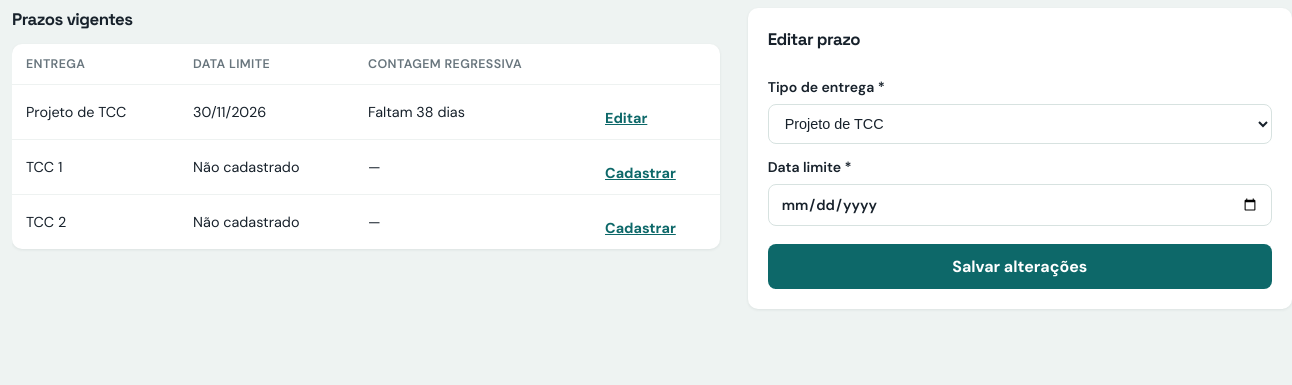
Scenario: GestaoCalendario › deve editar um prazo já cadastrado a partir da mesma tela
Expected: the text "30/11/2026" is shown, x1=179 y1=84 x2=354 y2=140
Click the button "Editar": [626, 118] box x1=605 y1=109 x2=647 y2=127
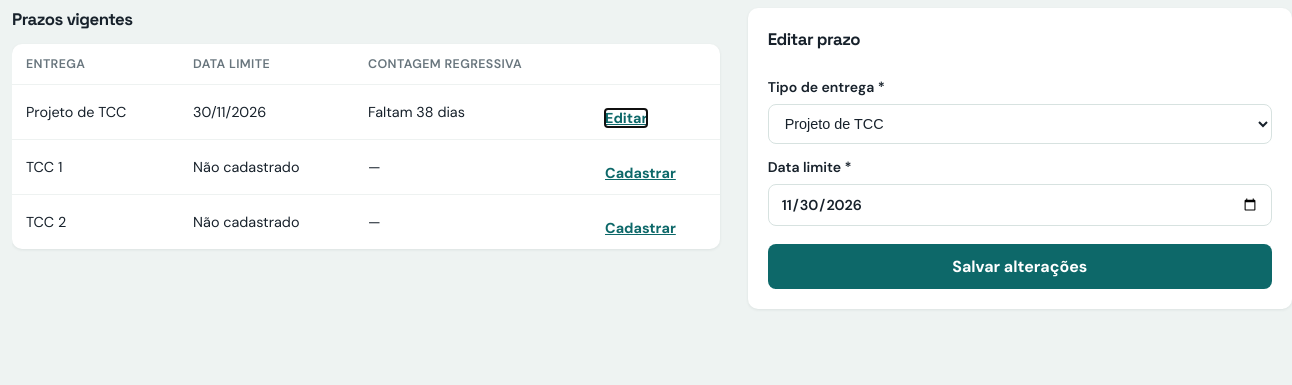
Expected: the button "Salvar alterações" is shown, x1=768 y1=244 x2=1272 y2=289
Now the date field labelled "Data limite *" holds "2026-11-30"
In the date field labelled "Data limite *": [1020, 205] box x1=768 y1=184 x2=1272 y2=226, type "2026-12-10"
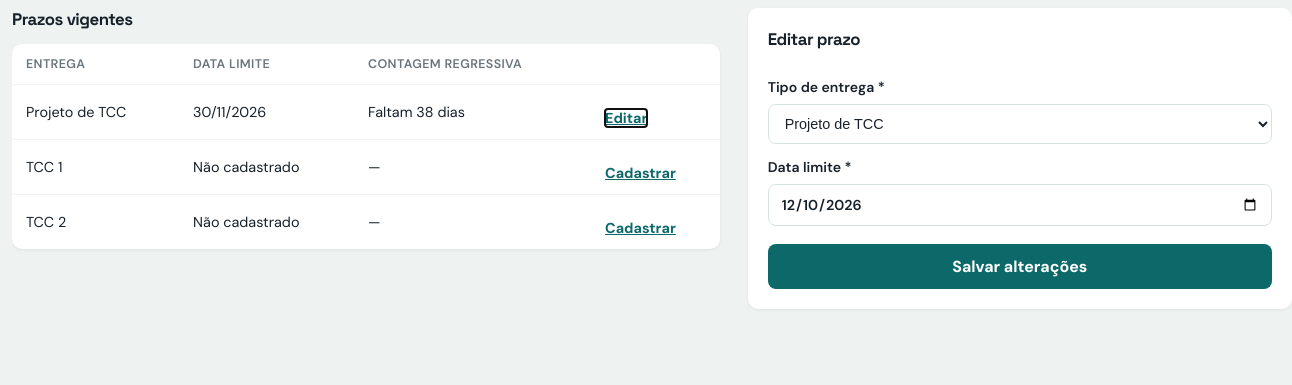
Click the button "Salvar alterações": [1020, 266] box x1=768 y1=244 x2=1272 y2=289
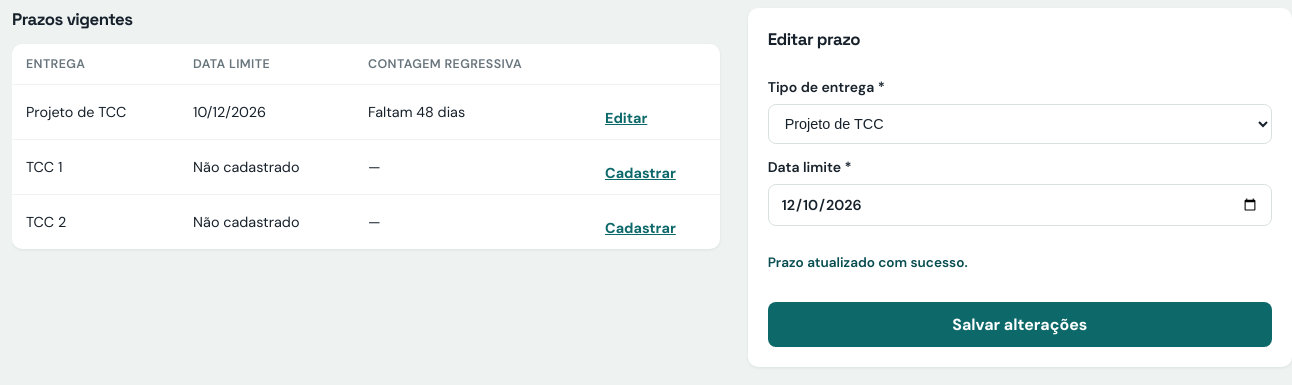
Now the text "Prazo atualizado com sucesso." is shown, box x1=768 y1=254 x2=968 y2=271
Now the text "10/12/2026" is shown, box x1=179 y1=84 x2=354 y2=140
